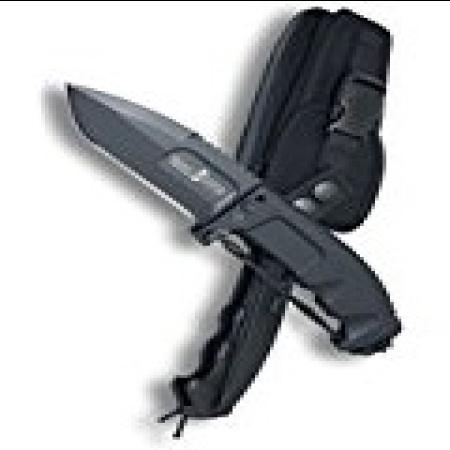long weapon: (60, 79, 266, 233)
